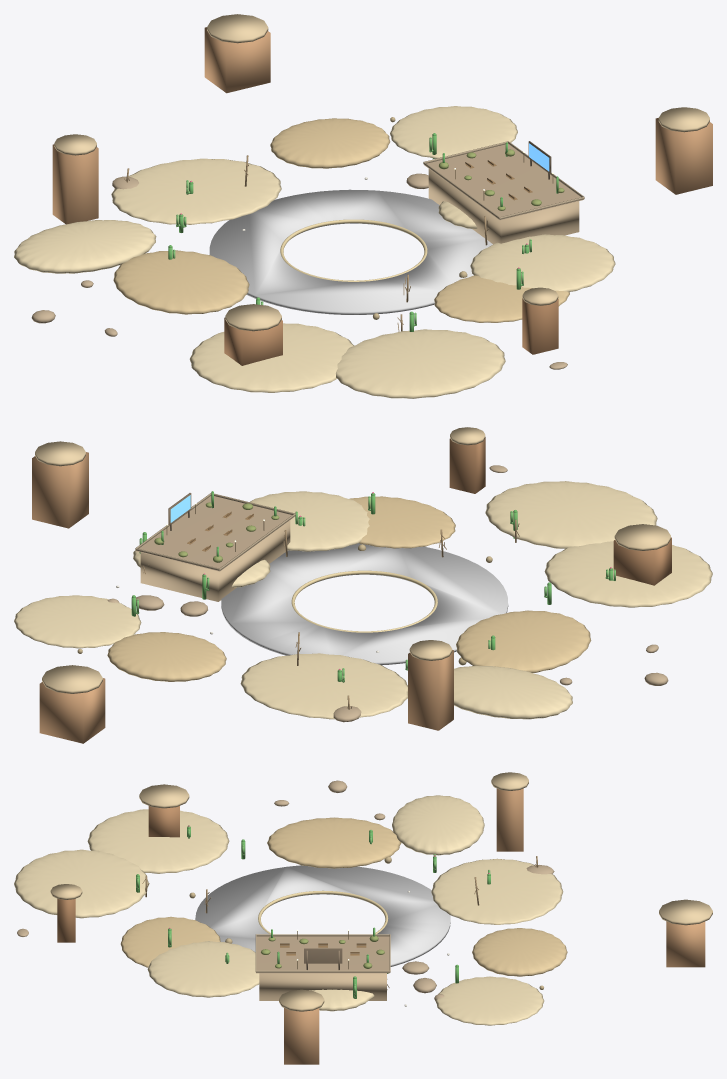
Rendered from Environment_Desert.glb.
3 renders of one model, top to bottom at view 1: azimuth 30°, elevation 25°; view 2: azimuth 150°, elevation 25°; view 3: azimuth 270°, elevation 25°, orthographic. The views are drawn at different scales.
Visible parts, largest first — view 1: Quicksand, Dune_7, Dune_3, Dune_6, Dune_5, Dune_9, Dune_4, SpecFloor, Dune_1, Dune_2, SpecBase, Mesa_2 (+10 smaller); view 2: Quicksand, Dune_7, Dune_3, Dune_6, Dune_5, SpecFloor, Dune_1, Dune_4, Dune_2, Dune_9, SpecBase, Dune_8 (+12 smaller); view 3: Quicksand, Dune_3, Dune_7, Dune_6, Dune_5, Dune_9, Dune_4, Dune_1, SpecFloor, Dune_2, Dune_8, SpecBase (+12 smaller).
Part boxes in pixels (x1,y1,x2,y2): Quicksand: (209,189,492,314); Dune_7: (336,329,505,398); Dune_3: (111,158,281,224); Dune_6: (189,323,354,392); Dune_5: (113,250,249,314); Dune_9: (470,234,615,291); Dune_4: (14,220,156,273); SpecFloor: (424,144,583,220); Dune_1: (390,106,517,158); Dune_2: (270,118,390,168); SpecBase: (428,169,579,244); Mesa_2: (655,118,712,194); Quicksand: (221,543,508,665); Dune_7: (485,481,657,548); Dune_3: (240,653,407,719); Dune_6: (544,541,712,607); Dune_5: (456,610,591,672); SpecFloor: (136,496,295,571); Dune_1: (14,595,141,648); Dune_4: (454,665,572,719); Dune_2: (107,632,226,681); Dune_9: (249,491,369,551); SpecBase: (140,520,290,601); Dune_8: (349,496,455,548); Quicksand: (195,865,450,966); Dune_3: (431,858,563,924); Dune_7: (14,849,148,918); Dune_6: (87,809,229,873); Dune_5: (267,817,401,868); Dune_9: (147,941,259,997); Dune_4: (392,795,484,855); Dune_1: (435,976,544,1025); SpecFloor: (256,936,389,973); Dune_2: (472,928,567,976); Dune_8: (120,916,220,967); SpecBase: (259,973,386,1000).
Size of what is drawn, in the model's own units: 209 by 23.21 by 219.
